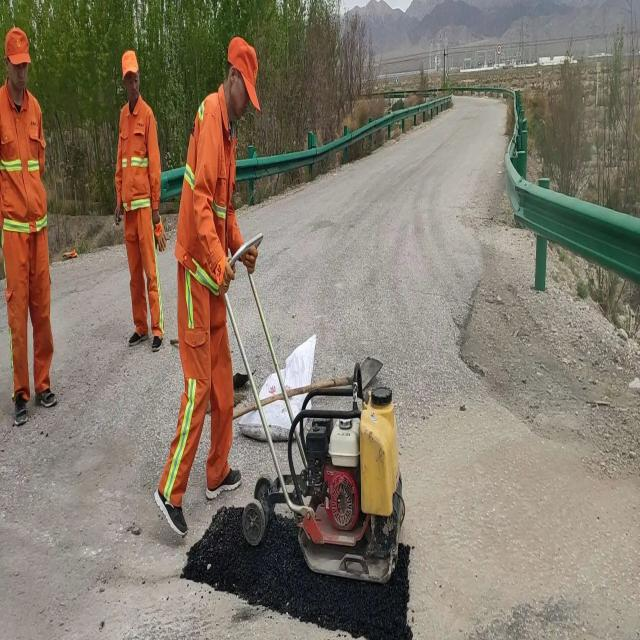Pothole: (192, 506, 418, 638), (456, 278, 557, 425)
